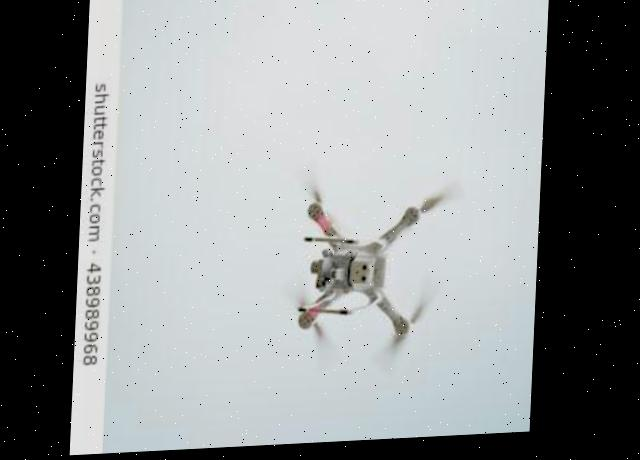drone: (259, 136, 495, 396)
